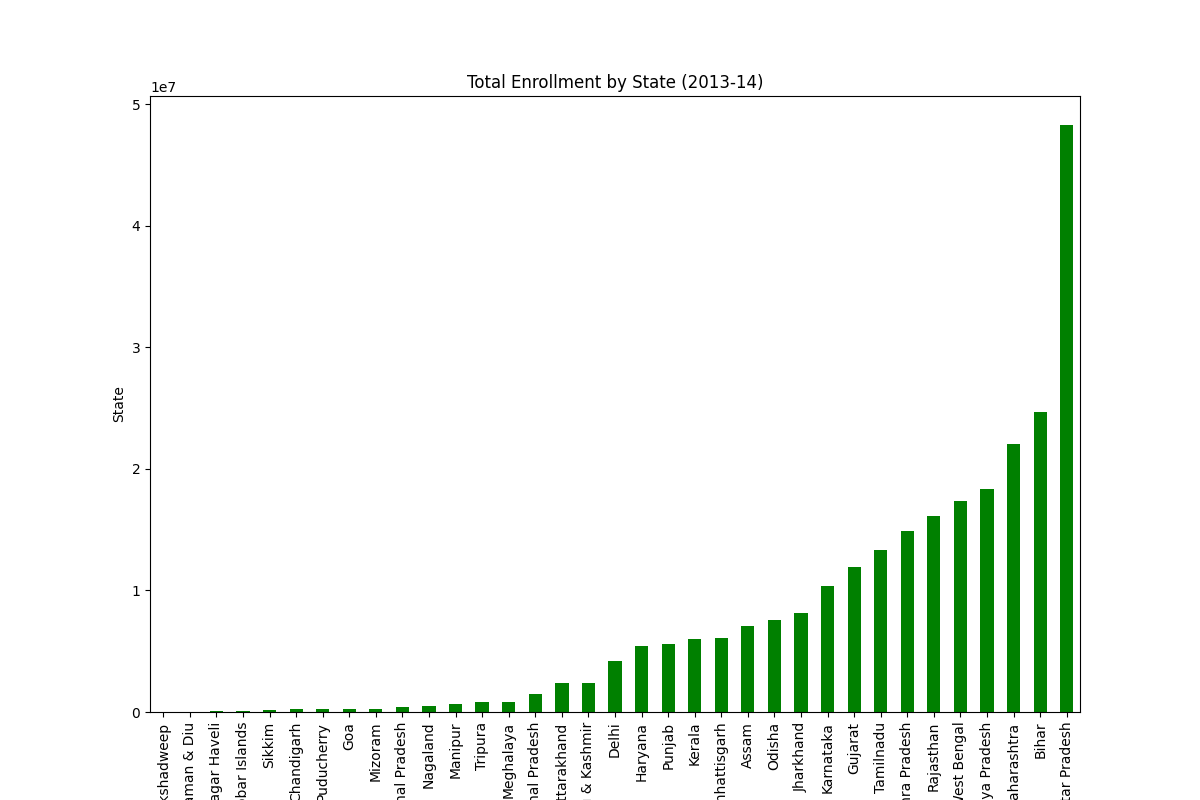

The page's visual inventory and layout, read from the dashboard file:
{"tool":"tableau","page":{"name":"Dashboard 1","canvas":[1000,1000],"units":"permille","ordinal":0},"visuals":[{"type":"worksheet","title":"Sheet 2","mark":"Bar","rows":["count"],"cols":["date","date"],"box":[1.8,480.7,991,499.4]}]}

Visuals, with their boxes on the dashboard's canvas, which has no fixed pixel size, in thousandths of its width and height (x1, y1, x2, y2). These are canvas units, not pixel positions in the 1200x800 screenshot, which may show the page scaled, cropped or inside an application window:
"Sheet 2" worksheet (Bar marks): <bbox>2, 481, 993, 980</bbox>
